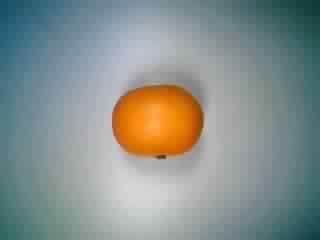orange: (107, 71, 206, 168)
